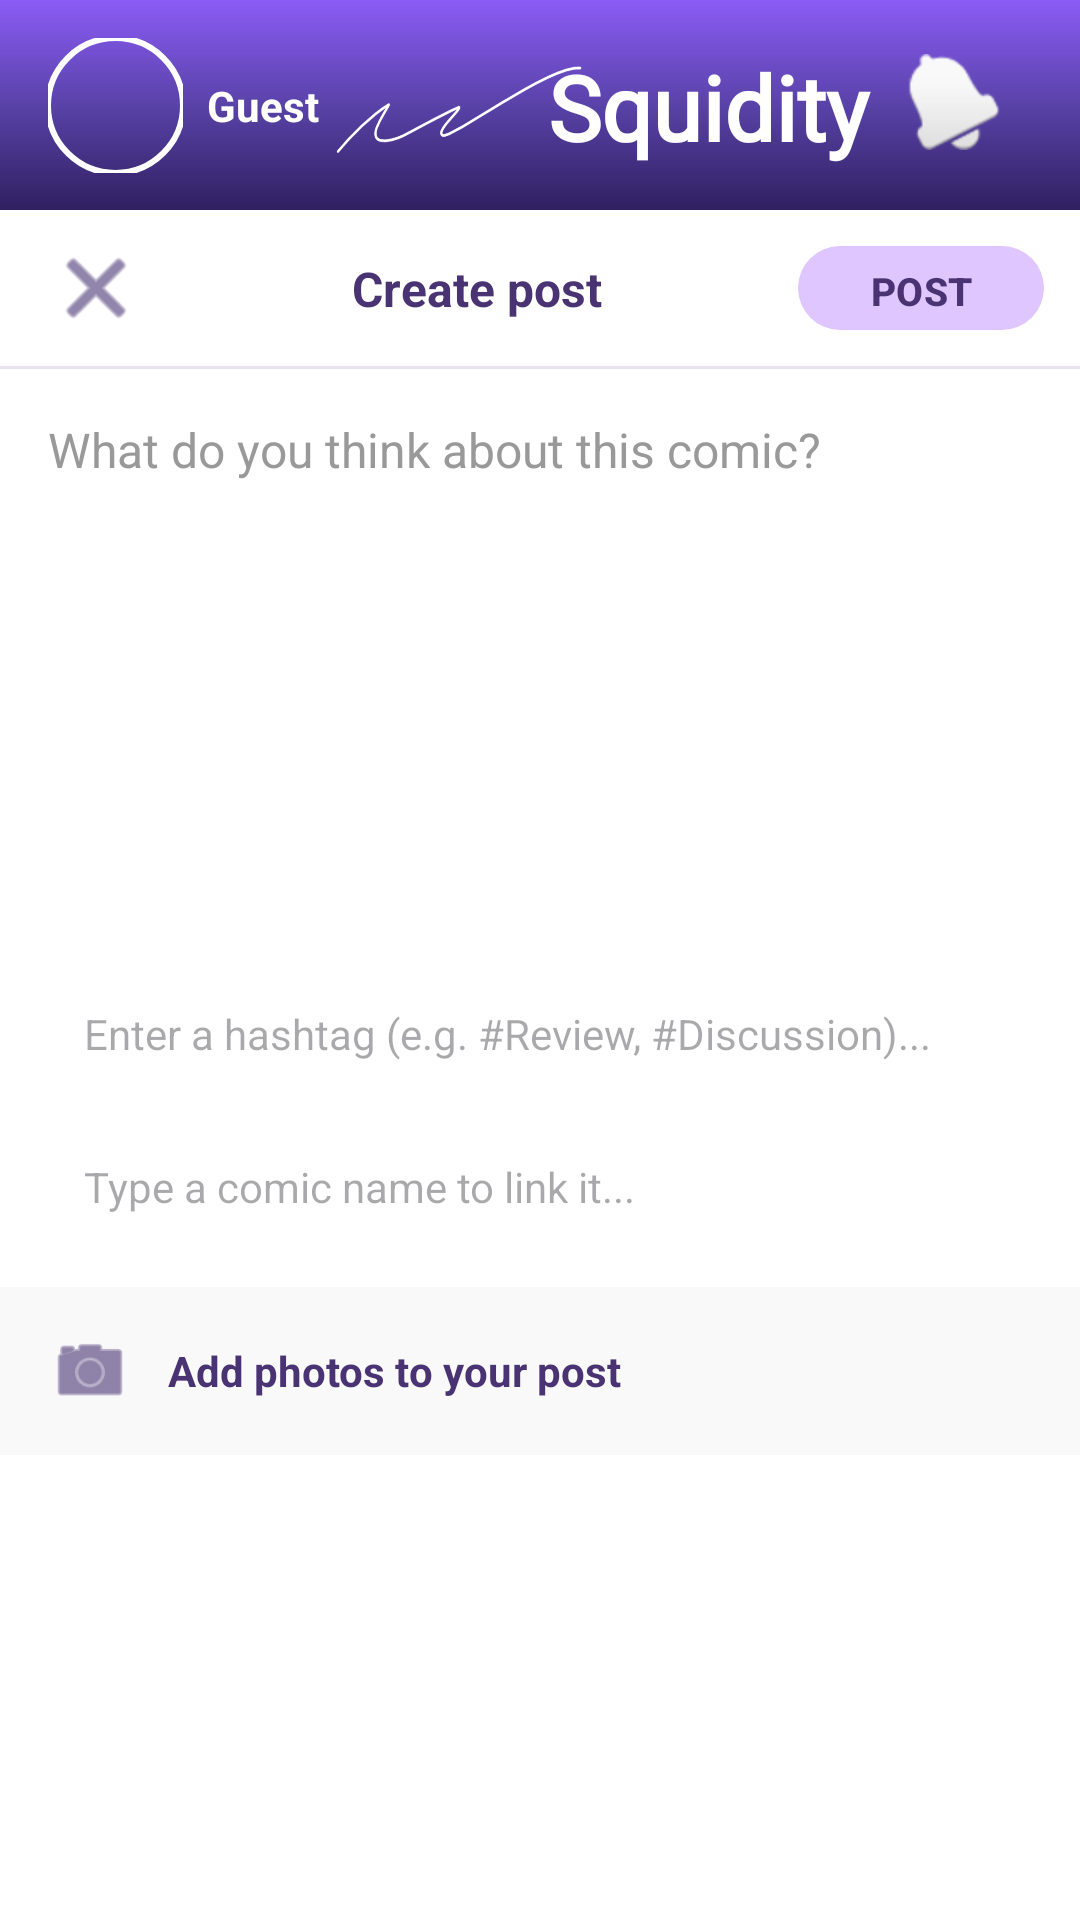

Icons on this 1080 x 1920 Android screen, each with the point to tap as point (x, y):
camera: point (90, 1370)
Cancel post: point (96, 288)
Notifications: point (954, 102)
scribble: point (457, 105)
